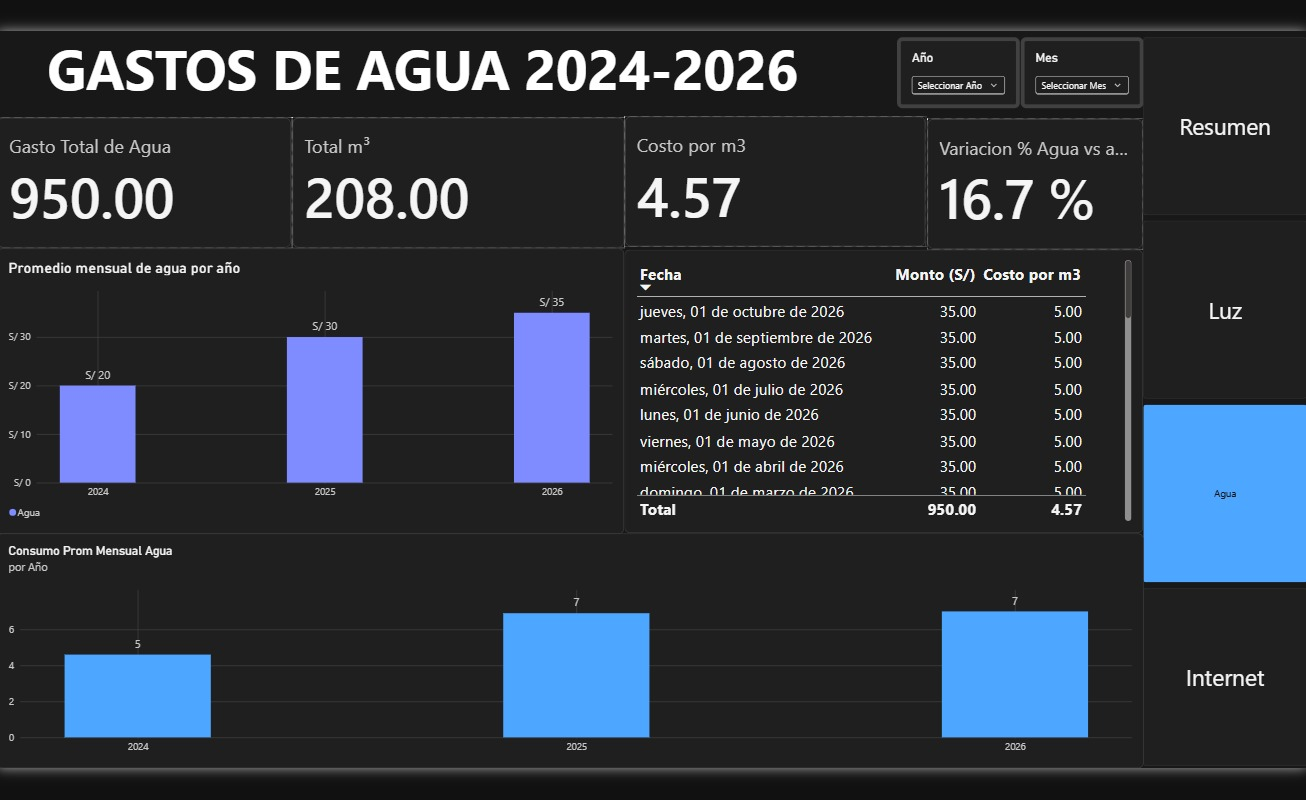

Layout of this report page (visuals, bound fields, positions):
{"tool":"powerbi","page":{"name":"Agua","canvas":[1920,1080],"ordinal":2},"visuals":[{"type":"textbox","box":[0,0,1247.5,125],"z":0},{"type":"cardVisual","fields":{"Data":["gastos_final.Total Agua"]},"box":[0,126,432,192],"z":1000},{"type":"cardVisual","fields":{"Data":["gastos_final.Total Agua m3"]},"box":[432,126,488,192],"z":2000},{"type":"cardVisual","fields":{"Data":["gastos_final.Costo por m3"]},"box":[920,125,442.5,192.5],"z":3000},{"type":"cardVisual","fields":{"Data":["gastos_final.Variacion % Agua"]},"box":[1362.5,127.5,317.5,192.5],"z":4000},{"type":"listSlicer","fields":{"Values":["gastos_final.Año"]},"box":[1320,10,180,104],"z":5000},{"type":"listSlicer","fields":{"Values":["gastos_final.Fecha.Variation.Jerarquía de fechas.Mes"]},"box":[1500,10,180,104],"z":6000},{"type":"clusteredColumnChart","title":"Promedio mensual de agua por año","fields":{"Category":["gastos_final.Año"],"Series":["gastos_final.Categoria"],"Y":["gastos_final.Promedio Mensual"]},"box":[0,318.5,919.3,418],"z":7000},{"type":"tableEx","fields":{"Values":["gastos_final.Fecha","Sum(gastos_final.Monto)","gastos_final.Costo por m3"]},"box":[920,320,760,415],"z":8000},{"type":"pageNavigator","box":[1680,10,240,1070],"z":9000},{"type":"clusteredColumnChart","fields":{"Category":["gastos_final.Año"],"Y":["gastos_final.Consumo Prom Mensual Agua"]},"box":[0,736,1680.9,344],"z":10000}]}

Visuals, with their boxes on the page's 1920x1080 design canvas (x1, y1, x2, y2). These are canvas units, not pixel positions in the 1306x800 screenshot, which may show the page scaled, cropped or inside an application window:
textbox: left=0, top=0, right=1248, bottom=125
cardVisual - gastos_final.Total Agua: left=0, top=126, right=432, bottom=318
cardVisual - gastos_final.Total Agua m3: left=432, top=126, right=920, bottom=318
cardVisual - gastos_final.Costo por m3: left=920, top=125, right=1362, bottom=318
cardVisual - gastos_final.Variacion % Agua: left=1362, top=128, right=1680, bottom=320
listSlicer - gastos_final.Año: left=1320, top=10, right=1500, bottom=114
listSlicer - gastos_final.Fecha.Variation.Jerarquía de fechas.Mes: left=1500, top=10, right=1680, bottom=114
"Promedio mensual de agua por año" clusteredColumnChart: left=0, top=318, right=919, bottom=736
tableEx - gastos_final.Fecha x Sum(gastos_final.Monto): left=920, top=320, right=1680, bottom=735
pageNavigator: left=1680, top=10, right=1920, bottom=1080
clusteredColumnChart - gastos_final.Año x gastos_final.Consumo Prom Mensual Agua: left=0, top=736, right=1681, bottom=1080
